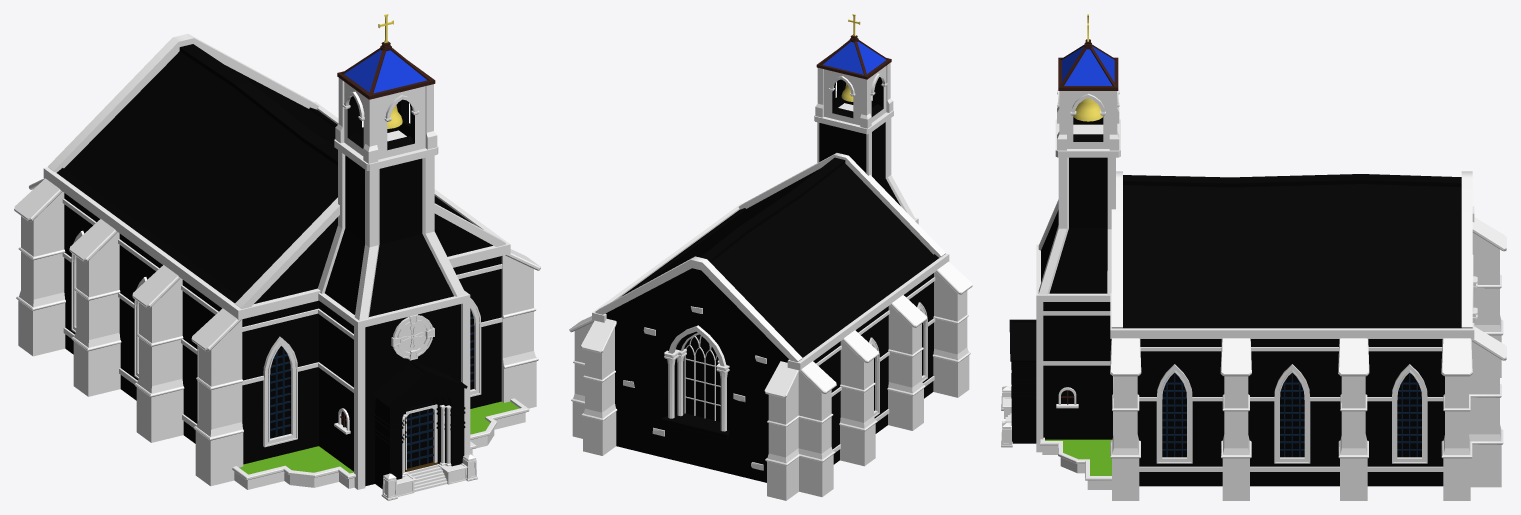
Rendered from church_c.FBX.
3 views of the same model, side by side, from view 1: azimuth 30°, elevation 25°; view 2: azimuth 150°, elevation 25°; view 3: azimuth 270°, elevation 25° (orthographic). The views are drawn at different scales.
Parts seen in each view (by area): view 1: church_c; view 2: church_c; view 3: church_c.
Boxes of the visible parts, x1,y1,x2,y2 form: church_c: (14,14,540,500); church_c: (569,14,972,500); church_c: (1001,14,1506,500).
Size of the model in its own units: 2566 by 3222 by 3587.
